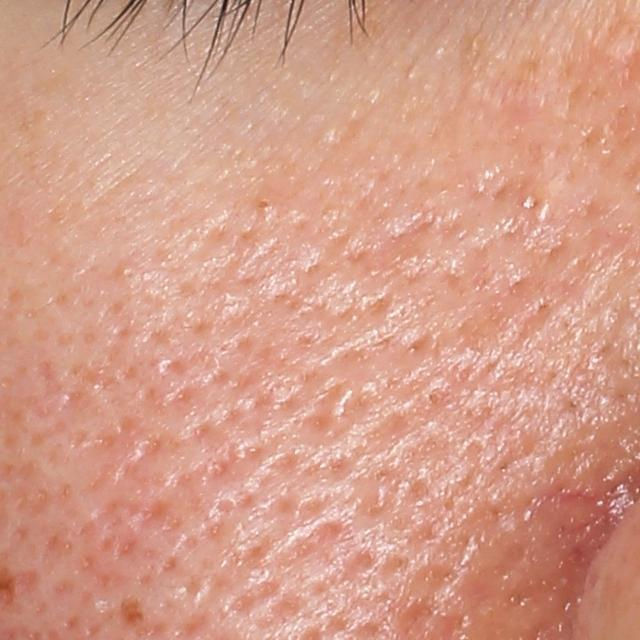comedo: (110, 259, 134, 281), (253, 192, 275, 213)
nevus: (114, 596, 149, 632)
